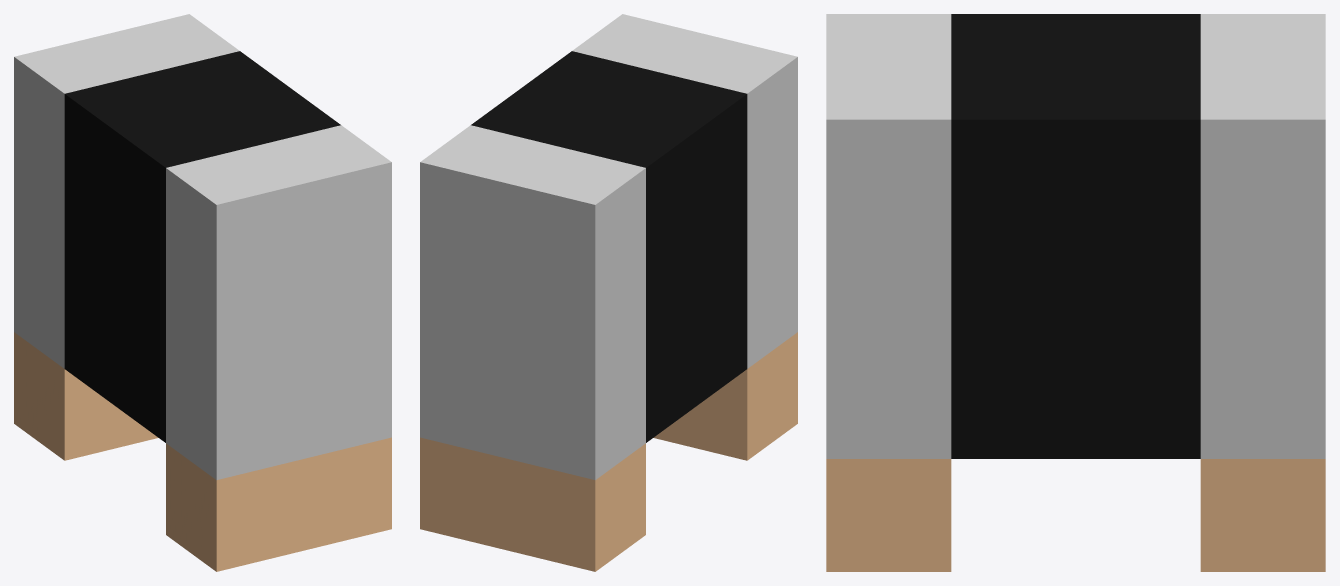
The model's file is body1.obj.
3 views of the same model, side by side, from view 1: azimuth 30°, elevation 25°; view 2: azimuth 150°, elevation 25°; view 3: azimuth 270°, elevation 25° (orthographic). The views are drawn at different scales.
Size of the model in its own units: 0.2 by 0.4 by 0.4.
Materials: 1 (1 with a texture image).
